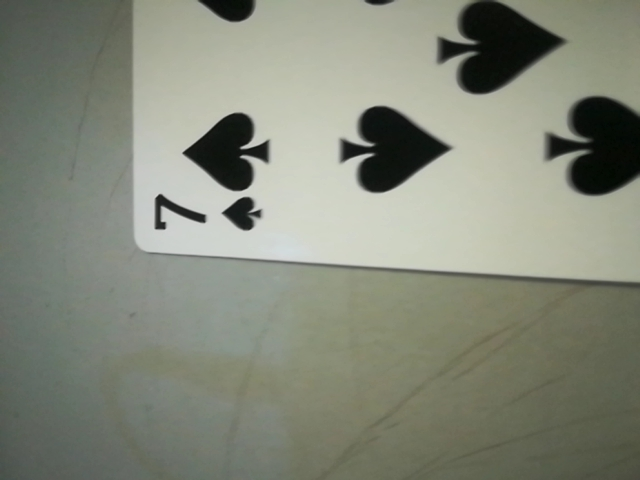ht 7: (134, 181, 270, 249)
